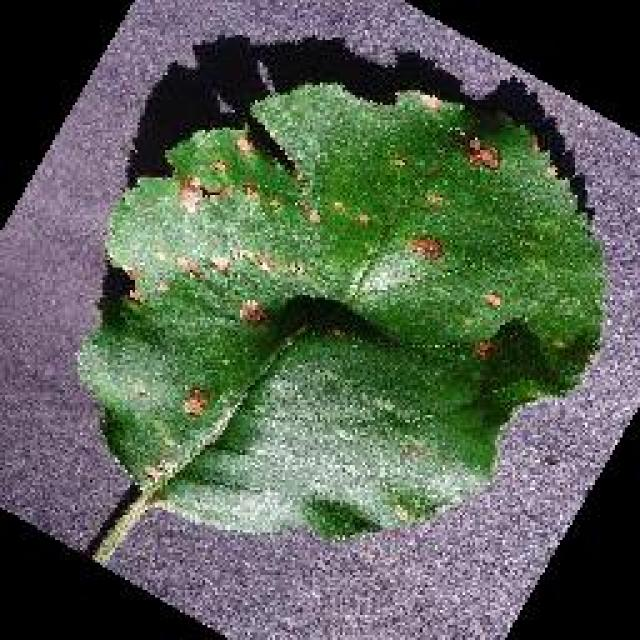apple healthy: (75, 65, 607, 543)
